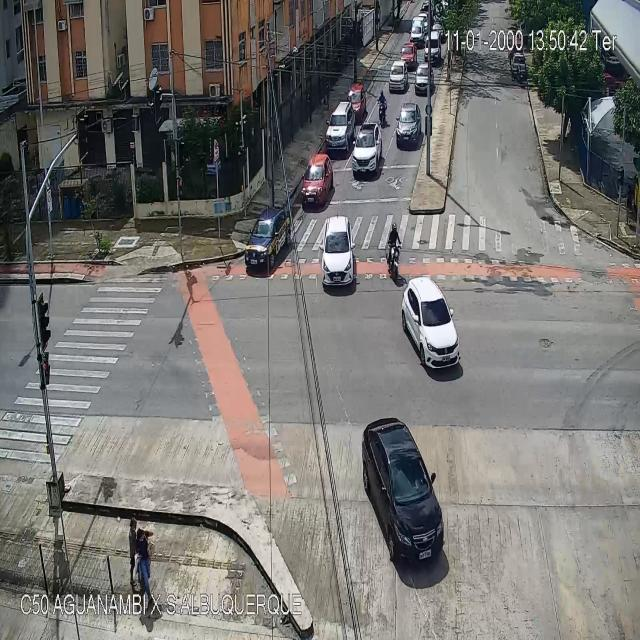Car: (362, 420, 447, 560), (406, 276, 462, 372), (245, 208, 292, 266), (320, 215, 354, 292), (352, 120, 382, 178), (303, 153, 332, 204), (328, 101, 353, 156), (395, 102, 421, 142), (348, 81, 367, 116), (422, 31, 441, 66), (416, 60, 433, 95), (390, 63, 407, 92), (401, 42, 417, 72), (512, 53, 526, 80), (408, 23, 422, 47), (432, 16, 447, 37)
Motorcycle: (386, 223, 400, 275), (378, 88, 388, 131), (517, 63, 522, 82)
